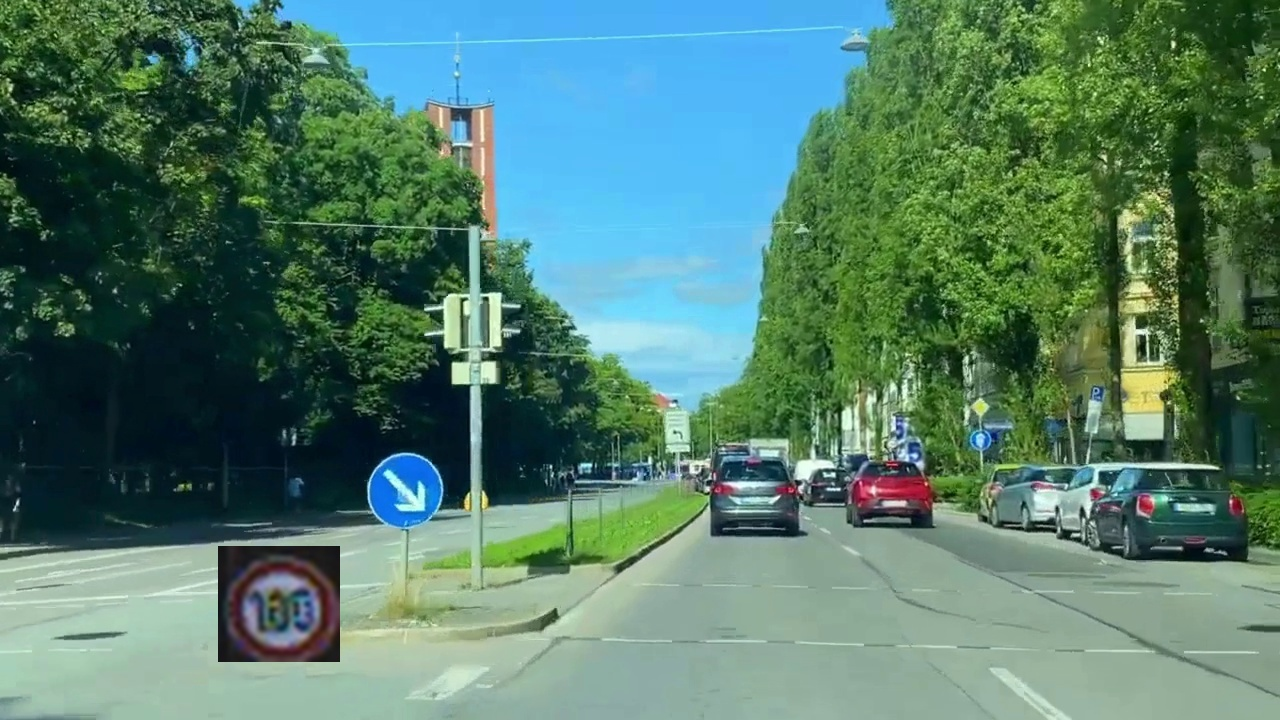Speed 100: (218, 546, 340, 662)
